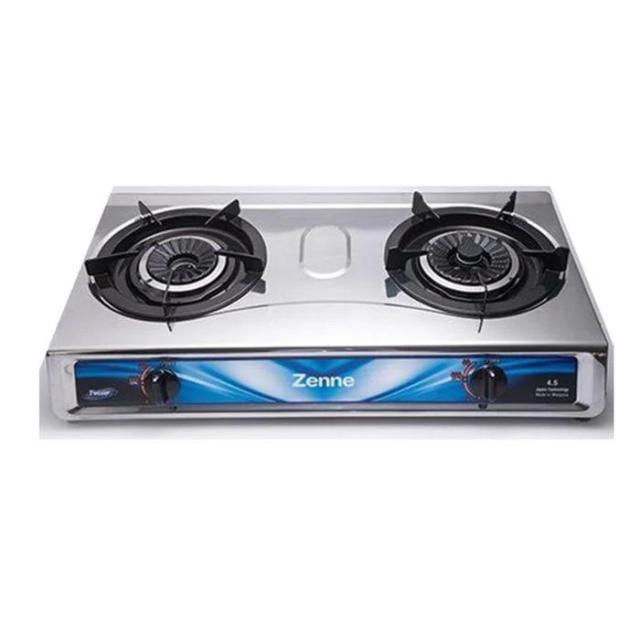knob_ON: (67, 188, 602, 335)
